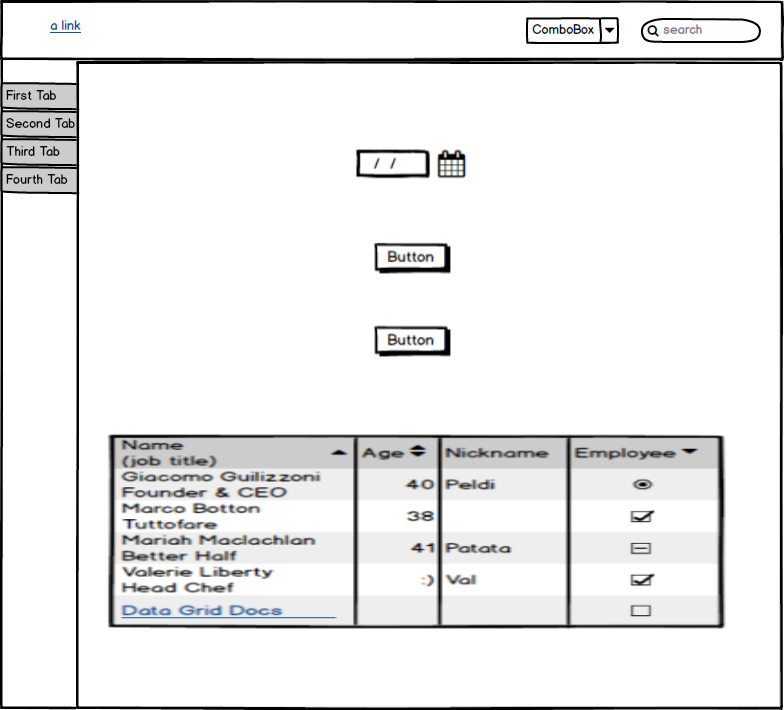button: (370, 317, 455, 362), (368, 240, 459, 281)
date_picker: (347, 143, 472, 188)
navlink: (42, 11, 85, 37)
search: (636, 14, 764, 44)
select_box: (522, 11, 622, 51)
sidebar: (3, 79, 89, 207)
table: (104, 429, 732, 638)
